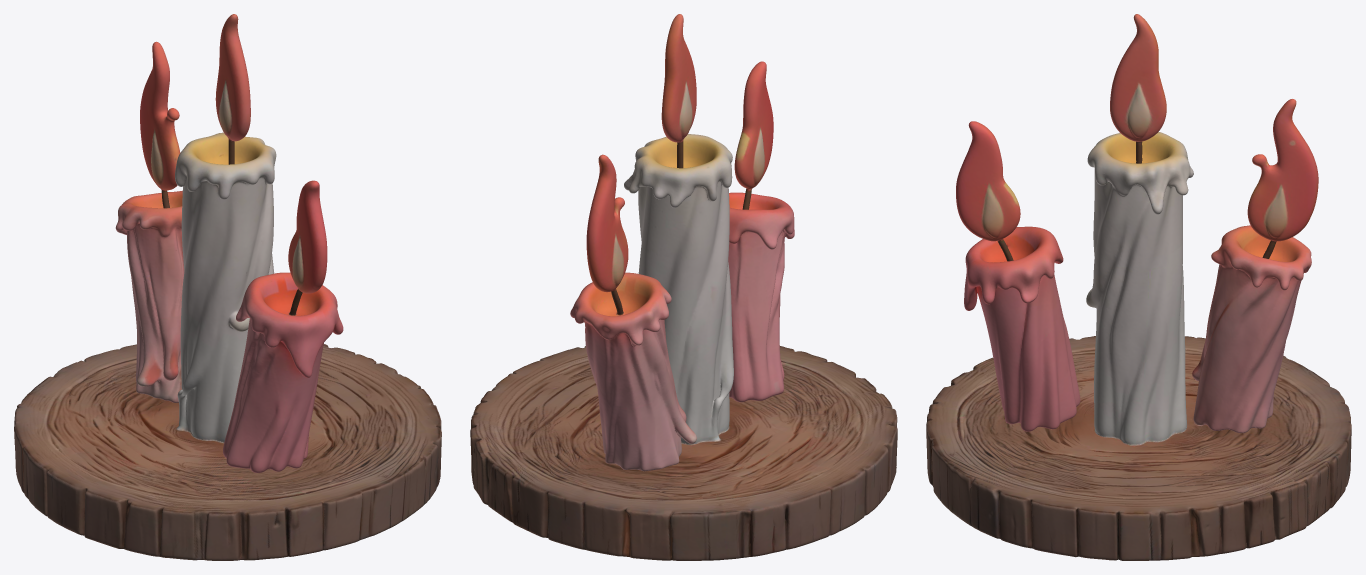
File: detailed_realistic_model_floatingcandles_27.glb
The picture shows the model from 3 angles, left to right: view 1: azimuth 30°, elevation 25°; view 2: azimuth 150°, elevation 25°; view 3: azimuth 270°, elevation 25°; orthographic projection.
Visible parts, largest first — view 1: tripo_node_09193490-250b-4a34-adc9-d5d008091c01; view 2: tripo_node_09193490-250b-4a34-adc9-d5d008091c01; view 3: tripo_node_09193490-250b-4a34-adc9-d5d008091c01.
Boxes of the visible parts, bbox=[...] form: tripo_node_09193490-250b-4a34-adc9-d5d008091c01: bbox=[14, 14, 441, 560]; tripo_node_09193490-250b-4a34-adc9-d5d008091c01: bbox=[470, 14, 897, 560]; tripo_node_09193490-250b-4a34-adc9-d5d008091c01: bbox=[926, 14, 1351, 560].
Bounding box in the file's own units: 0.839 × 1 × 0.836.
Materials: 1 (1 with a texture image).
